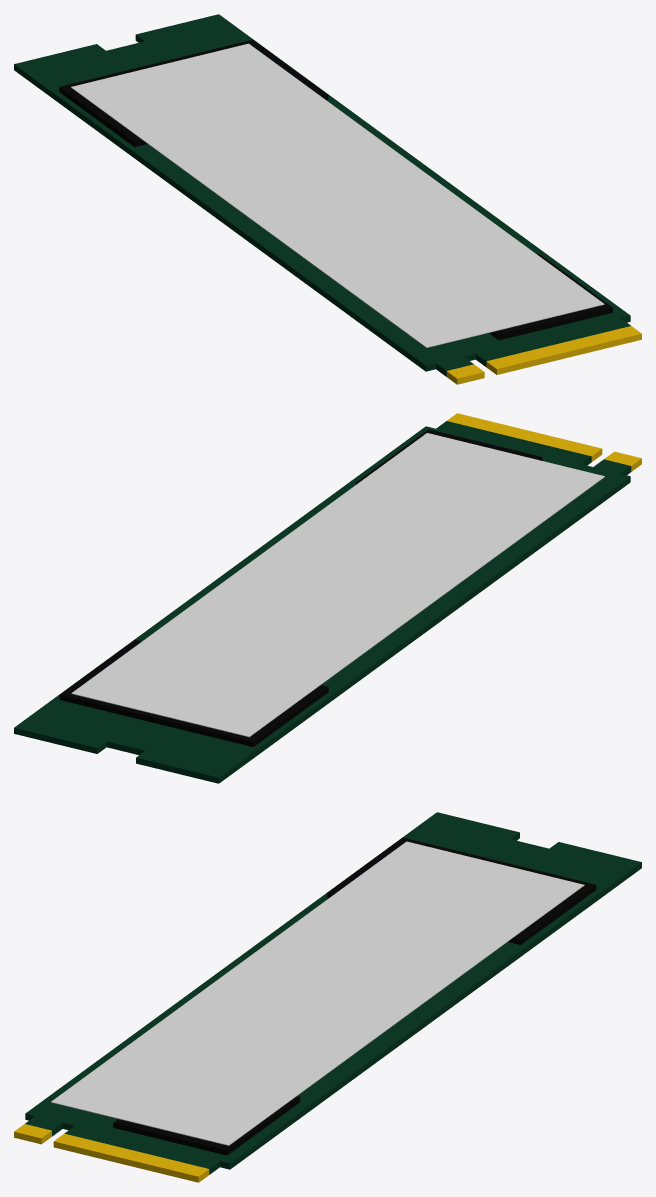
The model's file is PC_SSD.fbx.
The picture shows the model from 3 angles, top to bottom: view 1: azimuth 30°, elevation 25°; view 2: azimuth 150°, elevation 25°; view 3: azimuth 330°, elevation 25°; orthographic projection.
Parts seen in each view (by area): view 1: SSD_NVMe_1.002; view 2: SSD_NVMe_1.002; view 3: SSD_NVMe_1.002.
Part boxes in pixels (<box>): SSD_NVMe_1.002: <box>14,14,641,384</box>; SSD_NVMe_1.002: <box>14,413,641,783</box>; SSD_NVMe_1.002: <box>14,812,641,1182</box>.
Size of the model in its own units: 9.66 by 0.5377 by 35.35.
